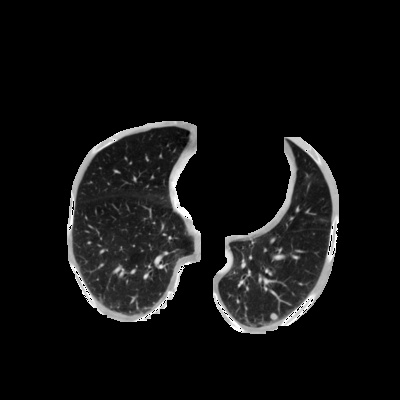PN: (270, 312, 278, 320)
